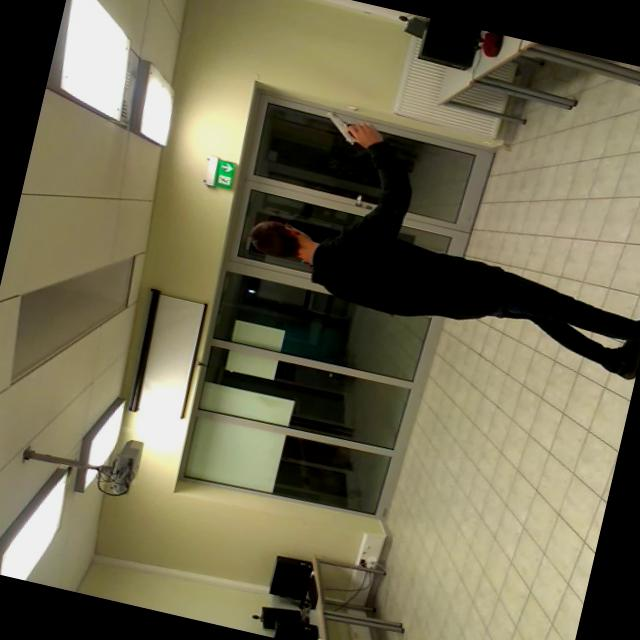handgun: (302, 105, 392, 152)
